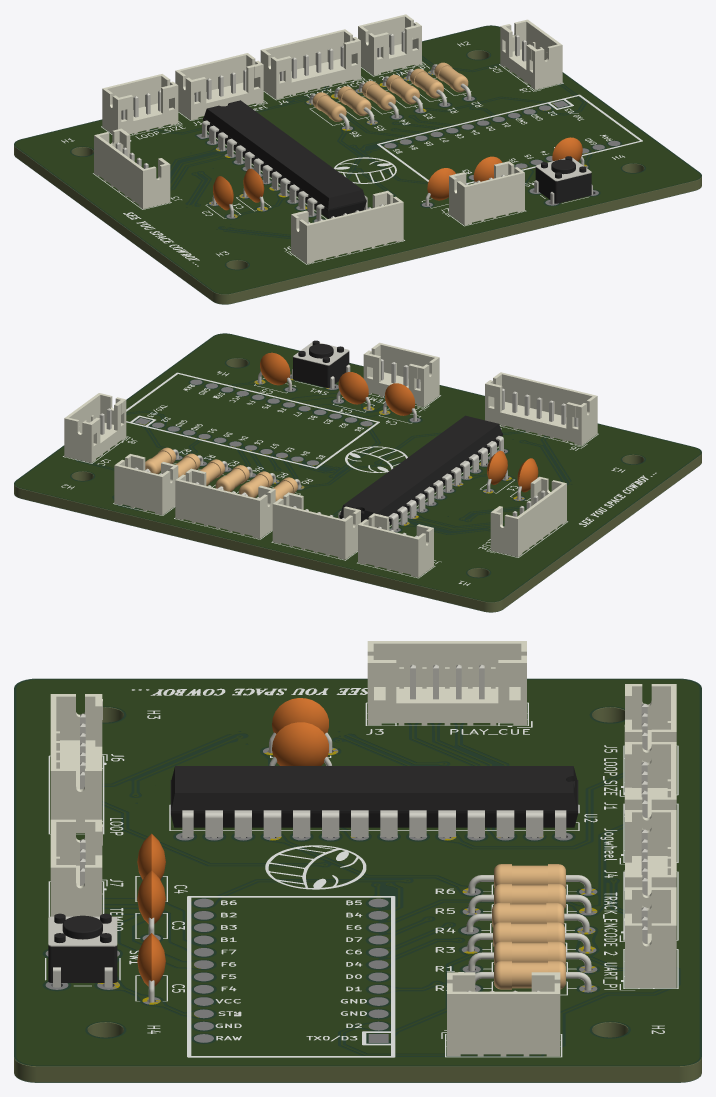
The model's file is midi-laser.glb.
The picture shows the model from 3 angles, top to bottom: view 1: azimuth 30°, elevation 25°; view 2: azimuth 150°, elevation 25°; view 3: azimuth 270°, elevation 25°; orthographic projection. The views are drawn at different scales.
Visible parts, largest first — view 1: object 23, object 7, object 22, J4, J5, J3, J7, J8, J1, R6, R5, R2 (+10 smaller); view 2: object 23, object 7, object 22, J4, J3, J5, J7, J8, J6, C3, C4, C5 (+5 smaller); view 3: object 23, object 22, J3, object 7, J8, J7, J4, J2, J5, C1, R6, R4 (+10 smaller).
Boxes of the visible parts, <box> form: object 23: <box>14,25,701,304</box>; object 7: <box>175,14,421,263</box>; object 22: <box>202,100,592,225</box>; J4: <box>260,29,360,99</box>; J5: <box>102,74,178,134</box>; J3: <box>94,128,170,208</box>; J7: <box>449,161,524,225</box>; J8: <box>500,19,562,89</box>; J1: <box>194,55,260,103</box>; R6: <box>309,92,349,129</box>; R5: <box>334,86,374,123</box>; R2: <box>431,62,471,99</box>; object 23: <box>14,333,701,612</box>; object 7: <box>114,372,596,559</box>; object 22: <box>292,340,503,530</box>; J4: <box>175,468,275,538</box>; J3: <box>490,476,566,556</box>; J5: <box>358,513,433,577</box>; J7: <box>363,342,439,406</box>; J8: <box>64,393,126,462</box>; J6: <box>504,391,597,445</box>; C3: <box>336,372,370,409</box>; C4: <box>383,383,416,421</box>; C5: <box>258,352,291,390</box>; object 23: <box>14,678,701,1082</box>; object 22: <box>48,766,578,987</box>; J3: <box>367,641,526,725</box>; object 7: <box>50,694,676,943</box>; J8: <box>447,972,560,1056</box>; J7: <box>50,819,102,916</box>; J4: <box>624,810,676,907</box>; J2: <box>624,907,676,987</box>; J5: <box>624,684,676,762</box>; C1: <box>269,722,331,765</box>; R6: <box>468,864,591,893</box>; R4: <box>466,903,589,932</box>.
Size of the model in its own units: 0.08 by 0.0095 by 0.06.
